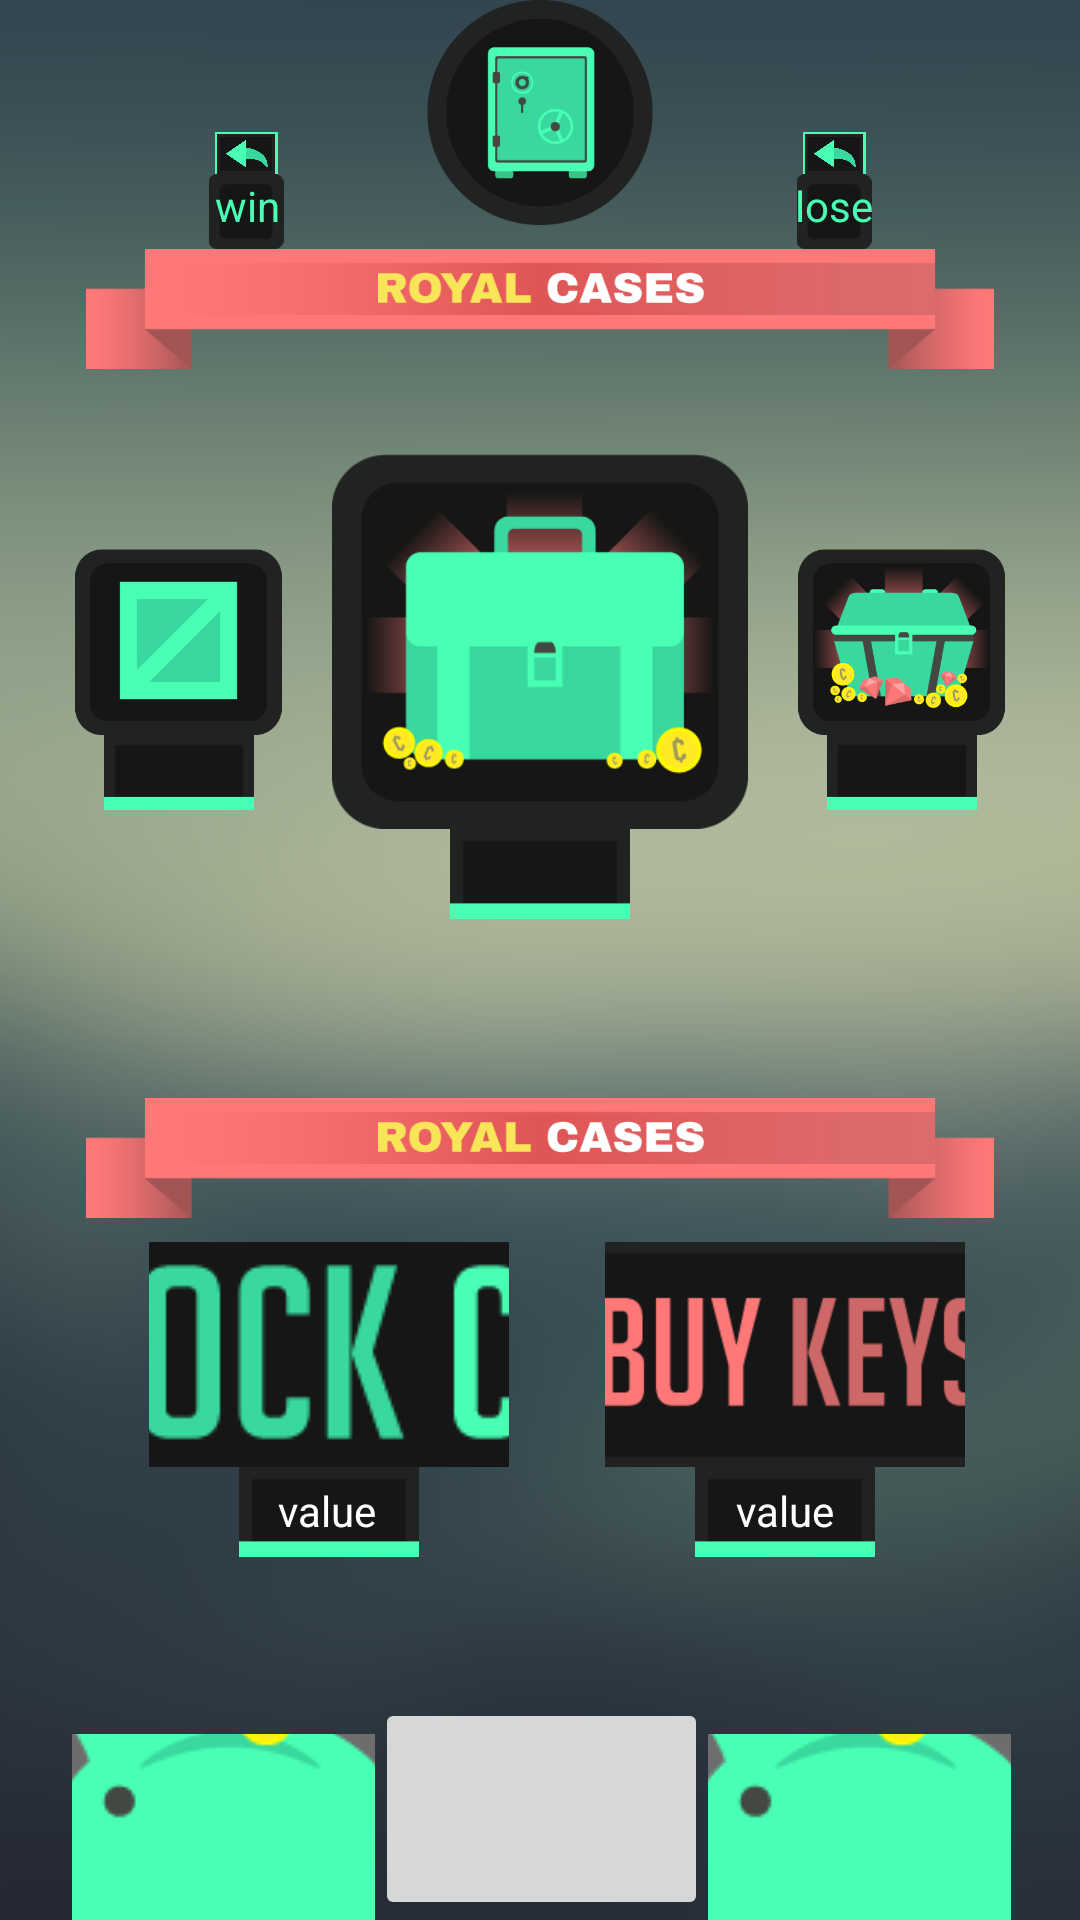

Point at icon controls on the screen. Image size 1080 × 1920, points as (x=x, y=y).
back: (x=246, y=153), (x=834, y=153)
